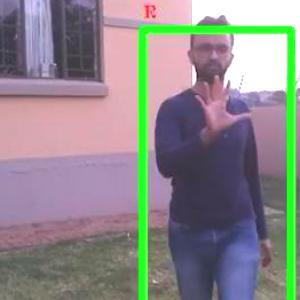follow_hand: (190, 71, 254, 134)
